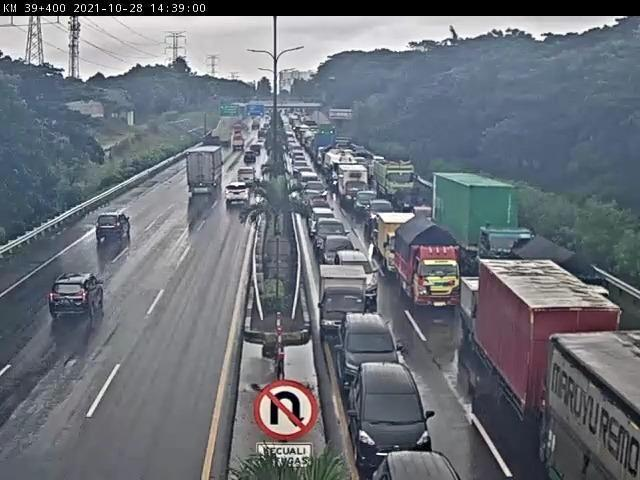car: (348, 362, 439, 469), (339, 315, 408, 397), (364, 432, 460, 480), (317, 266, 374, 346), (49, 273, 105, 322), (375, 155, 420, 208), (312, 220, 351, 260), (323, 235, 360, 277), (97, 212, 134, 244), (367, 200, 396, 236), (309, 208, 339, 240), (226, 183, 253, 205), (305, 182, 329, 206), (356, 193, 378, 218), (238, 170, 257, 189), (243, 153, 257, 167)
truck: (478, 260, 622, 466), (432, 171, 535, 291), (507, 235, 604, 343), (395, 212, 465, 312), (377, 216, 423, 279), (186, 146, 224, 197), (339, 165, 372, 209), (200, 135, 220, 159)
